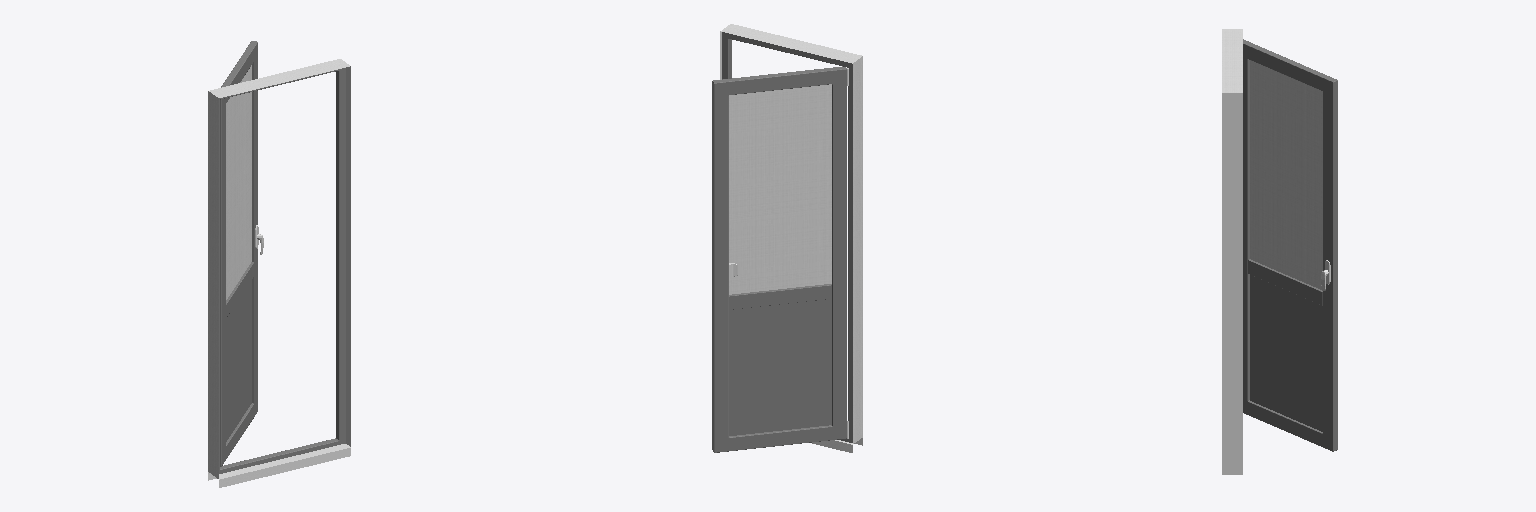
3 views of the same model, side by side, from view 1: azimuth 30°, elevation 25°; view 2: azimuth 150°, elevation 25°; view 3: azimuth 270°, elevation 25° (orthographic).
Bounding box in the file's own units: 0.8 × 2.25 × 0.61.
4 materials, 1 textured.